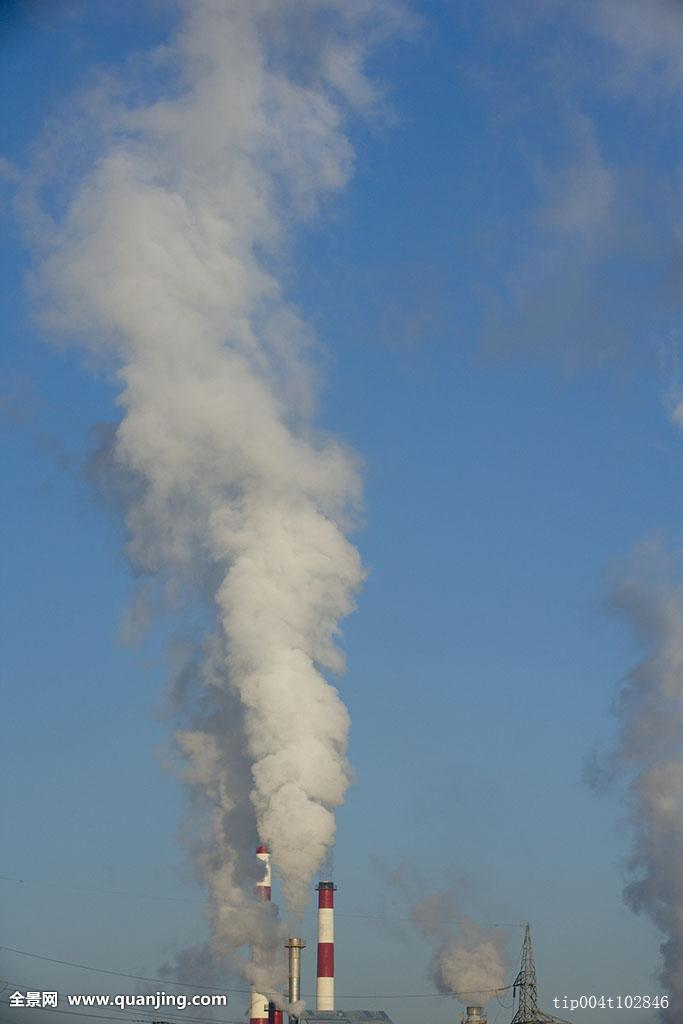dust: (72, 177, 376, 961)
